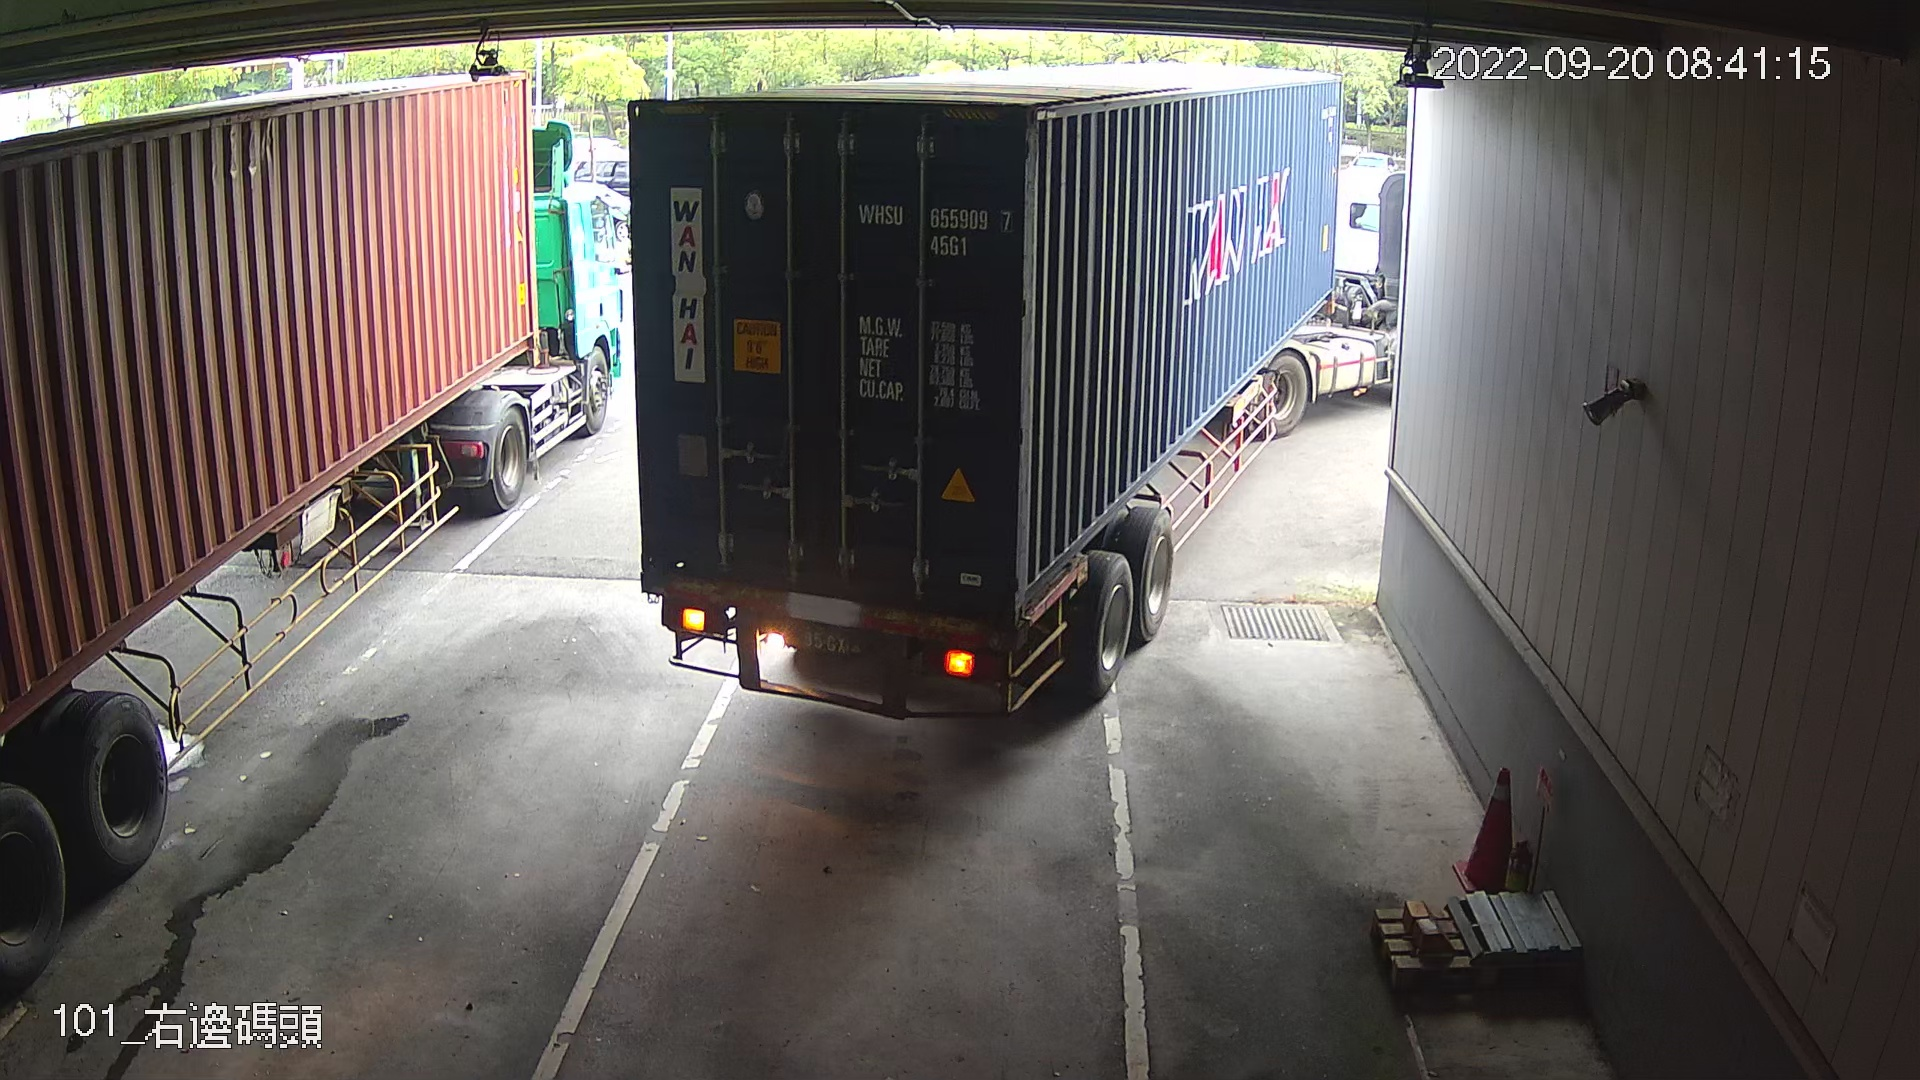container: (847, 193, 1021, 266)
